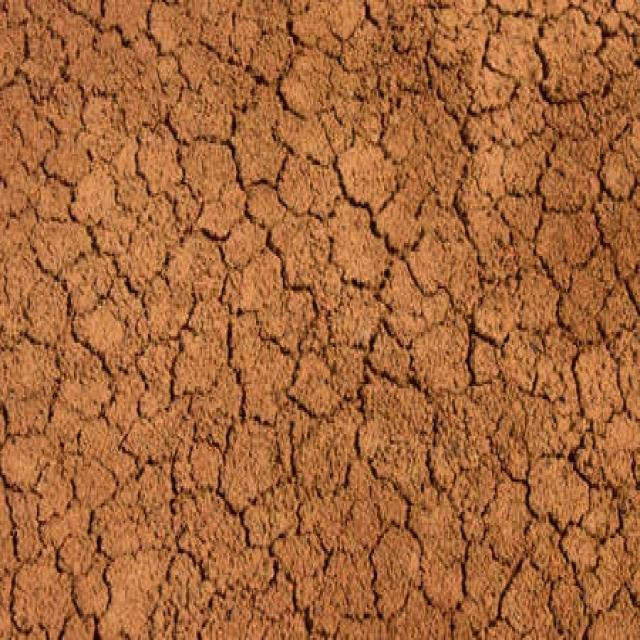Clay Soil: (42, 42, 606, 609)
